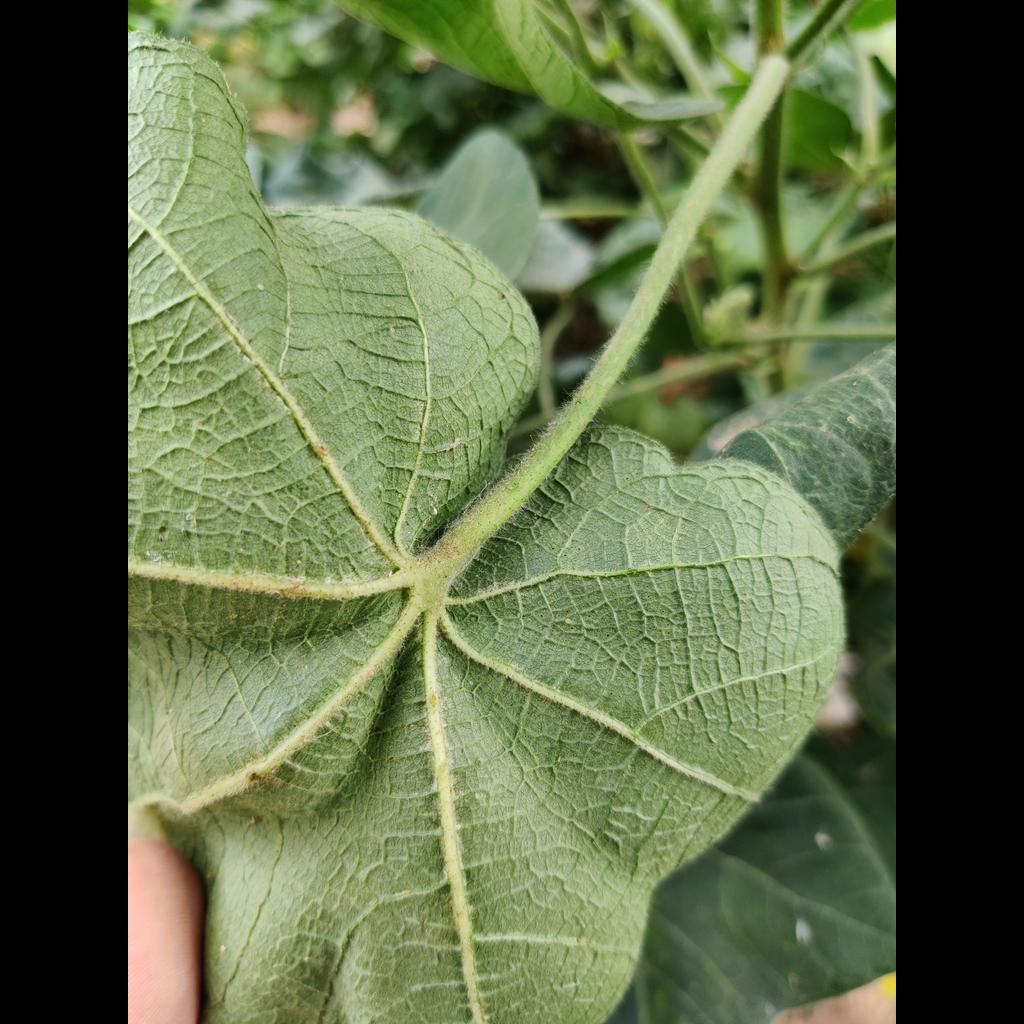nymph: (794, 919, 812, 944), (815, 833, 830, 848), (219, 944, 226, 953), (257, 284, 265, 291), (186, 514, 194, 521), (565, 618, 572, 625), (325, 577, 332, 584), (431, 508, 437, 515)
